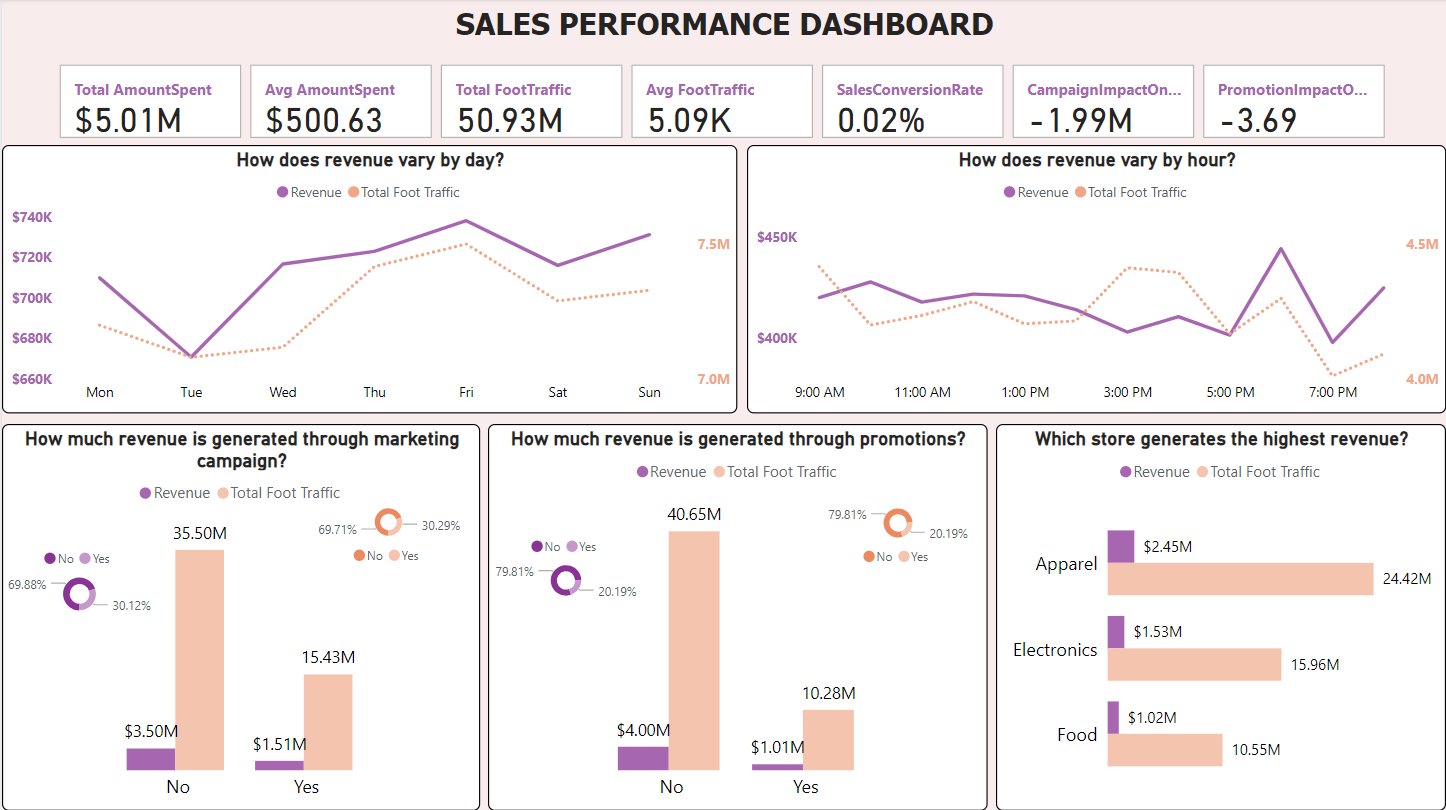

This screenshot's page, from the dashboard's own definition file:
{"tool":"powerbi","page":{"name":"OVERVIEW","canvas":[1280,720],"ordinal":0},"visuals":[{"type":"lineChart","title":"How does revenue vary by hour?","fields":{"Category":["fashion_forward_mall_dataset.VisitTime"],"Y":["Sum(fashion_forward_mall_dataset.AmountSpent)"],"Y2":["Sum(fashion_forward_mall_dataset.FootTraffic)"]},"box":[660.4,129.4,619.6,238.3],"z":0},{"type":"lineChart","title":"How does revenue vary by day?","fields":{"Y":["Sum(fashion_forward_mall_dataset.AmountSpent)"],"Category":["fashion_forward_mall_dataset.Day Name"],"Y2":["Sum(fashion_forward_mall_dataset.FootTraffic)"]},"box":[0,129.4,651.7,238.3],"z":1000},{"type":"clusteredColumnChart","title":"How much revenue is generated through promotions?","fields":{"Category":["fashion_forward_mall_dataset.Promotion"],"Y":["Sum(fashion_forward_mall_dataset.AmountSpent)","Sum(fashion_forward_mall_dataset.FootTraffic)"]},"box":[430.9,376.4,442.6,343.3],"z":2000},{"type":"clusteredBarChart","title":"Which store generates the highest revenue?","fields":{"Category":["fashion_forward_mall_dataset.StoreType"],"Y":["Sum(fashion_forward_mall_dataset.AmountSpent)","Sum(fashion_forward_mall_dataset.FootTraffic)"]},"box":[881.2,376.4,398.8,343.3],"z":3000},{"type":"clusteredColumnChart","title":"How much revenue is generated through marketing campaign?","fields":{"Category":["fashion_forward_mall_dataset.MarketingCampaign"],"Y":["Sum(fashion_forward_mall_dataset.AmountSpent)","Sum(fashion_forward_mall_dataset.FootTraffic)"]},"box":[0,376.4,424.1,343.3],"z":4000},{"type":"cardVisual","fields":{"Data":["Sum(fashion_forward_mall_dataset.AmountSpent)","Avg(fashion_forward_mall_dataset.AmountSpent)","Sum(fashion_forward_mall_dataset.FootTraffic)","Avg(fashion_forward_mall_dataset.FootTraffic)","All Measures.SalesConversionRate","All Measures.CampaignImpactOnSales","All Measures.PromotionImpactOnFootTraffic"]},"box":[45.7,53.5,1187.6,75.9],"z":5000},{"type":"donutChart","fields":{"Category":["fashion_forward_mall_dataset.MarketingCampaign"],"Y":["Sum(fashion_forward_mall_dataset.FootTraffic)"]},"box":[271.3,443.3,142.8,67.4],"z":6000},{"type":"donutChart","fields":{"Category":["fashion_forward_mall_dataset.MarketingCampaign"],"Y":["Sum(fashion_forward_mall_dataset.AmountSpent)"]},"box":[0,477,137.4,73.6],"z":7000},{"type":"donutChart","fields":{"Y":["Sum(fashion_forward_mall_dataset.AmountSpent)"],"Category":["fashion_forward_mall_dataset.Promotion"]},"box":[430.9,466.4,138.3,70.9],"z":8000},{"type":"donutChart","fields":{"Category":["fashion_forward_mall_dataset.Promotion"],"Y":["Sum(fashion_forward_mall_dataset.FootTraffic)"]},"box":[725.3,443.3,138.3,69.2],"z":9000},{"type":"textbox","box":[397.2,0,508.1,46.1],"z":10000}]}

Visuals, with their boxes in screenshot pixels (x1, y1, x2, y2), scaled from the page's 1280x720 canvas onto the 1446x810 screenshot:
"How does revenue vary by hour?" lineChart: box=[746, 146, 1445, 414]
"How does revenue vary by day?" lineChart: box=[0, 146, 736, 414]
"How much revenue is generated through promotions?" clusteredColumnChart: box=[487, 423, 987, 809]
"Which store generates the highest revenue?" clusteredBarChart: box=[995, 423, 1445, 809]
"How much revenue is generated through marketing campaign?" clusteredColumnChart: box=[0, 423, 479, 809]
cardVisual - Sum(fashion_forward_mall_dataset.AmountSpent) x Avg(fashion_forward_mall_dataset.AmountSpent): box=[52, 60, 1393, 146]
donutChart - fashion_forward_mall_dataset.MarketingCampaign x Sum(fashion_forward_mall_dataset.FootTraffic): box=[306, 499, 468, 575]
donutChart - fashion_forward_mall_dataset.MarketingCampaign x Sum(fashion_forward_mall_dataset.AmountSpent): box=[0, 537, 155, 619]
donutChart - Sum(fashion_forward_mall_dataset.AmountSpent) x fashion_forward_mall_dataset.Promotion: box=[487, 525, 643, 604]
donutChart - fashion_forward_mall_dataset.Promotion x Sum(fashion_forward_mall_dataset.FootTraffic): box=[819, 499, 976, 577]
textbox: box=[449, 0, 1023, 52]
